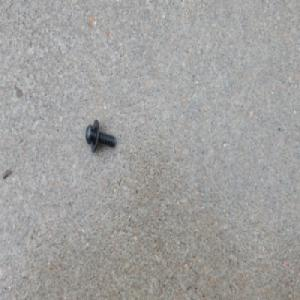BoltWasher: (85, 118, 116, 153)
